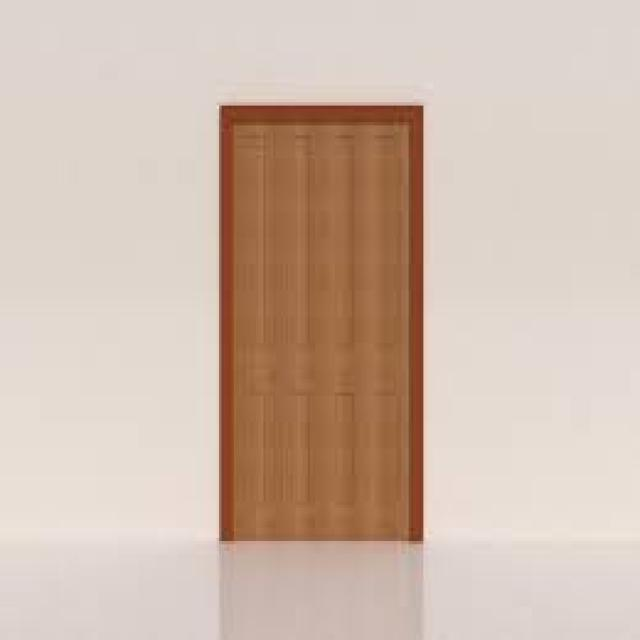door: (219, 104, 423, 543)
